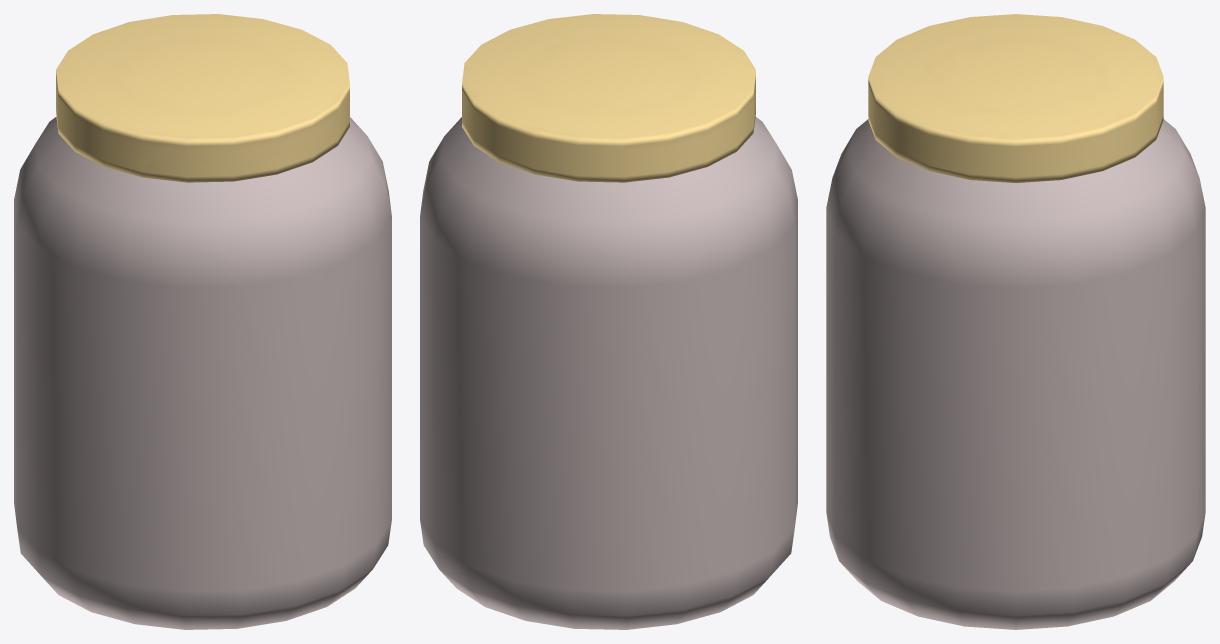
File: pi_ketchup03.gltf
3 renders of one model, left to right at view 1: azimuth 30°, elevation 25°; view 2: azimuth 150°, elevation 25°; view 3: azimuth 270°, elevation 25°, orthographic.
Parts seen in each view (by area): view 1: pi_ketchup03_bottle_outside01_mesh_shape:pi_ketchup03_glass, pi_ketchup03_lid01_mesh_shape:pi_ketchup03_lid; view 2: pi_ketchup03_bottle_outside01_mesh_shape:pi_ketchup03_glass, pi_ketchup03_lid01_mesh_shape:pi_ketchup03_lid; view 3: pi_ketchup03_bottle_outside01_mesh_shape:pi_ketchup03_glass, pi_ketchup03_lid01_mesh_shape:pi_ketchup03_lid.
Boxes of the visible parts, x1,y1,x2,y2 form: pi_ketchup03_bottle_outside01_mesh_shape:pi_ketchup03_glass: [14, 117, 391, 629]; pi_ketchup03_lid01_mesh_shape:pi_ketchup03_lid: [56, 14, 349, 182]; pi_ketchup03_bottle_outside01_mesh_shape:pi_ketchup03_glass: [420, 117, 797, 629]; pi_ketchup03_lid01_mesh_shape:pi_ketchup03_lid: [462, 14, 755, 182]; pi_ketchup03_bottle_outside01_mesh_shape:pi_ketchup03_glass: [826, 119, 1205, 629]; pi_ketchup03_lid01_mesh_shape:pi_ketchup03_lid: [868, 14, 1163, 182].
Bounding box in the file's own units: 0.0704 × 0.0989 × 0.0704.
3 materials, 3 textured.
